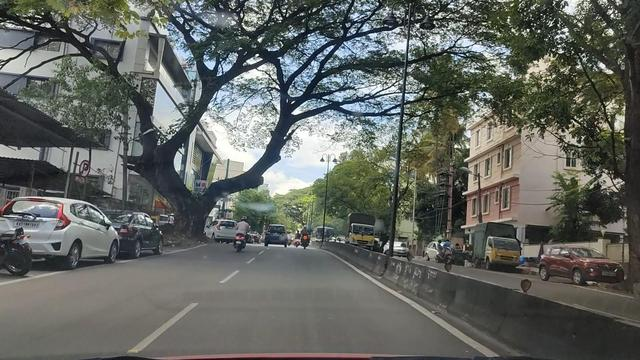LMV: (2, 193, 124, 270)
